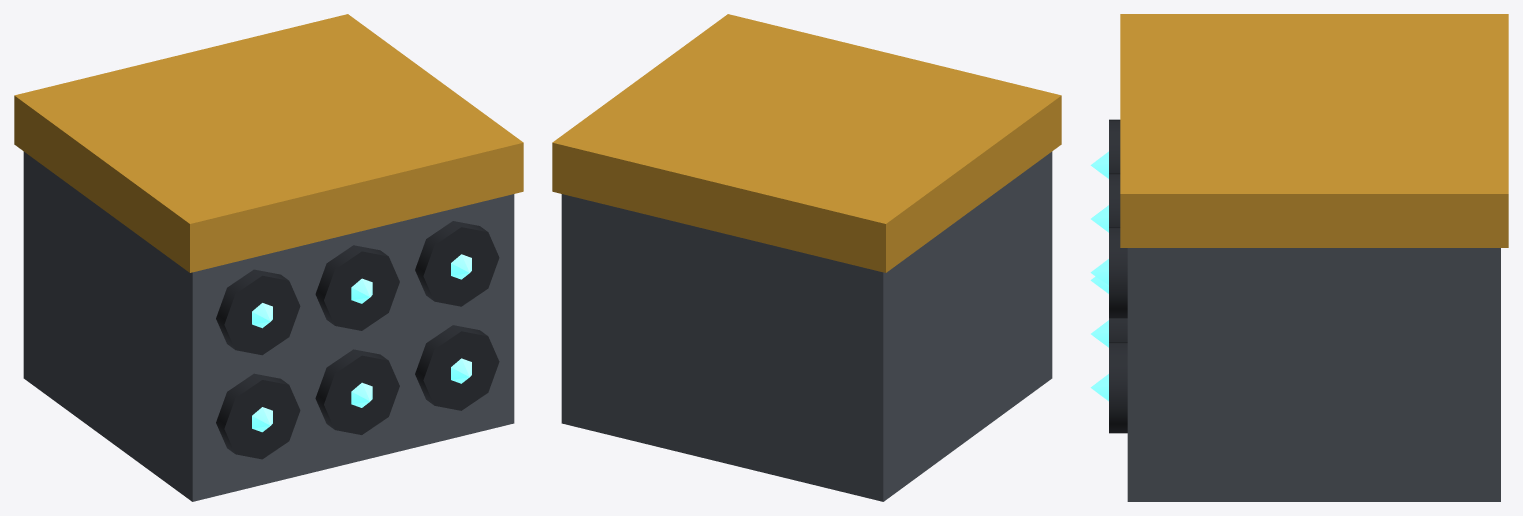
Rendered from wpn_missile.glb.
3 renders of one model, left to right at view 1: azimuth 30°, elevation 25°; view 2: azimuth 150°, elevation 25°; view 3: azimuth 270°, elevation 25°, orthographic. The views are drawn at different scales.
Parts seen in each view (by area): view 1: weapon; view 2: weapon; view 3: weapon.
Part boxes in pixels (x1,y1,x2,y2): weapon: [14, 14, 523, 501]; weapon: [552, 14, 1061, 501]; weapon: [1090, 14, 1508, 501].
Size of the model in its own units: 0.57 by 0.46 by 0.56.
